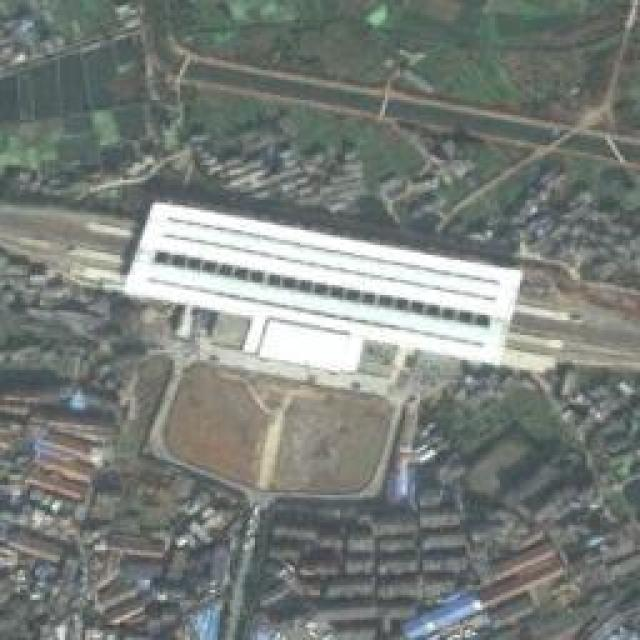City: (0, 0, 638, 638)
Railway: (5, 163, 640, 385)
